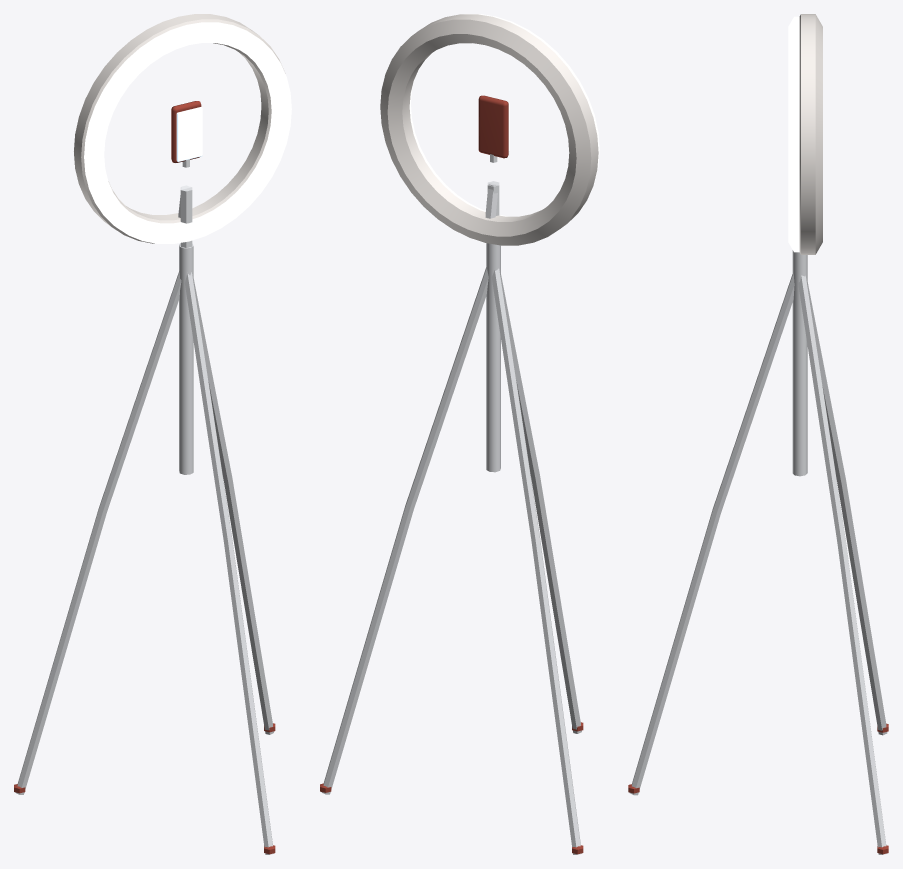
Rendered from ring_light_stand.glb.
The picture shows the model from 3 angles, left to right: view 1: azimuth 30°, elevation 25°; view 2: azimuth 150°, elevation 25°; view 3: azimuth 270°, elevation 25°; orthographic projection.
Visible parts, largest first — view 1: ring_light_stand; view 2: ring_light_stand; view 3: ring_light_stand.
Boxes of the visible parts, x1,y1,x2,y2 form: ring_light_stand: (14, 14, 291, 854); ring_light_stand: (320, 14, 599, 854); ring_light_stand: (628, 14, 888, 854).
Bounding box in the file's own units: 0.724 × 2.04 × 0.627.
